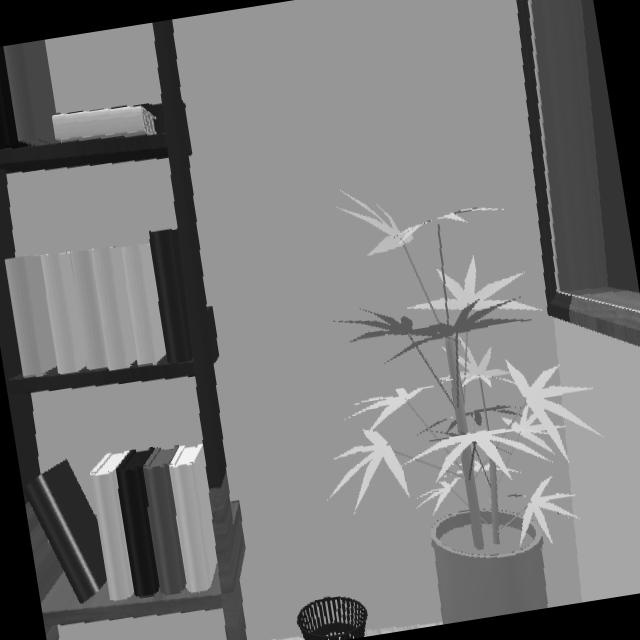book: (24, 460, 107, 603), (170, 444, 218, 592), (90, 452, 135, 601), (117, 448, 161, 598), (144, 445, 187, 592), (6, 255, 57, 375), (91, 249, 137, 368), (43, 254, 87, 374), (122, 246, 166, 365), (72, 251, 108, 369), (52, 107, 156, 143)
shelf: (0, 20, 246, 640)
